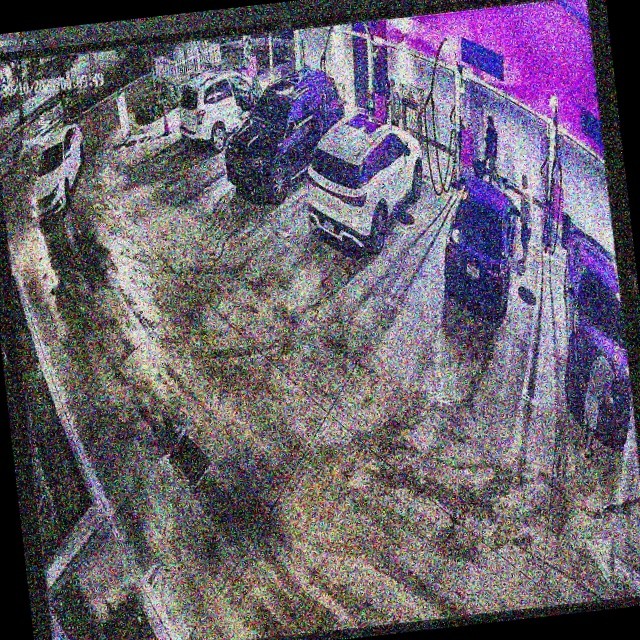Car: (296, 110, 433, 257), (216, 61, 352, 208), (435, 170, 530, 325), (178, 63, 274, 154)
